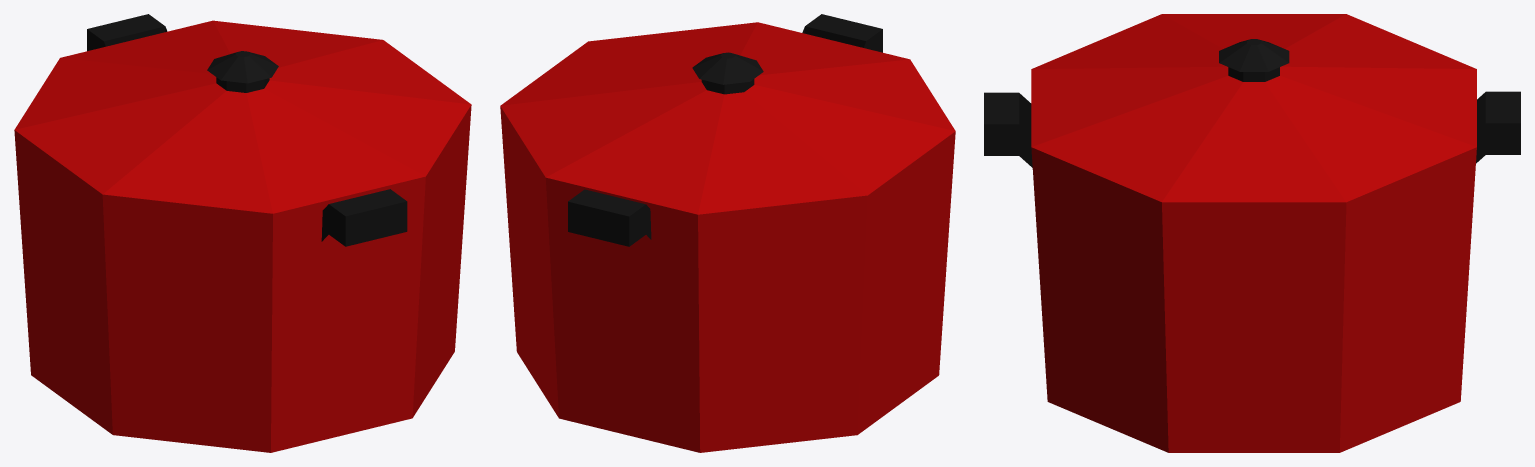
Rendered from pot3.fbx.
3 renders of one model, left to right at view 1: azimuth 30°, elevation 25°; view 2: azimuth 150°, elevation 25°; view 3: azimuth 270°, elevation 25°, orthographic. The views are drawn at different scales.
Visible parts, largest first — view 1: pot3; view 2: pot3; view 3: pot3.
Part boxes in pixels (left/top/right/bottom): pot3: left=14, top=14, right=471, bottom=452; pot3: left=500, top=14, right=955, bottom=452; pot3: left=984, top=14, right=1520, bottom=452.
Size of the model in its own units: 80.72 by 64.67 by 97.24.
